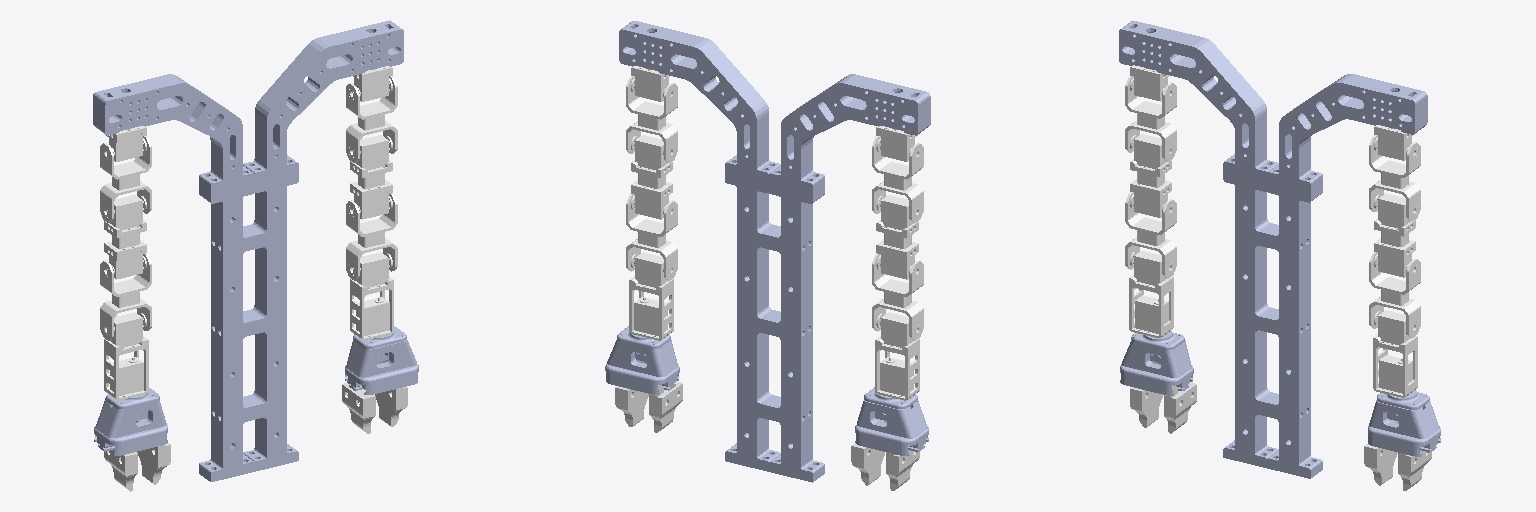
URDF robot description (dexter_arm):
<?xml version="1.0" encoding="utf-8"?>
<!-- This URDF was automatically created by SolidWorks to URDF Exporter! Originally created by Stephen Brawner (brawner@gmail.com) 
     Commit Version: 1.6.0-4-g7f85cfe  Build Version: 1.6.7995.38578
     For more information, please see http://wiki.ros.org/sw_urdf_exporter -->
<robot
  name="dexter_arm">
  <link
    name="base_link">
    <inertial>
      <origin
        xyz="1.94289029309402E-16 -1.17267306976032E-15 0.336691106271961"
        rpy="0 0 0" />
      <mass
        value="1.50541140238431" />
      <inertia
        ixx="0.015557818570861"
        ixy="6.84623852621616E-12"
        ixz="3.83456530151513E-19"
        iyy="0.0180203504414457"
        iyz="5.38593319905951E-17"
        izz="0.00261529849461049" />
    </inertial>
    <visual>
      <origin
        xyz="0 0 0"
        rpy="0 0 0" />
      <geometry>
        <mesh
          filename="package://dexter_arm_description/meshes/base_link.STL" />
      </geometry>
      <material
        name="">
        <color
          rgba="0.792156862745098 0.819607843137255 0.933333333333333 1" />
      </material>
    </visual>
    <collision>
      <origin
        xyz="0 0 0"
        rpy="0 0 0" />
      <geometry>
        <mesh
          filename="package://dexter_arm_description/meshes/base_link.STL" />
      </geometry>
    </collision>
  </link>
  <link
    name="l1l">
    <inertial>
      <origin
        xyz="-2.06768076455033E-05 -3.7470027081099E-16 0.020318702946937"
        rpy="0 0 0" />
      <mass
        value="0.0412610106656879" />
      <inertia
        ixx="6.45452263055138E-06"
        ixy="3.97873238125421E-21"
        ixz="-5.67173895647604E-10"
        iyy="1.08529418395194E-05"
        iyz="-2.17709921074147E-21"
        izz="8.35698735982534E-06" />
    </inertial>
    <visual>
      <origin
        xyz="0 0 0"
        rpy="0 0 0" />
      <geometry>
        <mesh
          filename="package://dexter_arm_description/meshes/l1l.STL" />
      </geometry>
      <material
        name="">
        <color
          rgba="1 1 1 1" />
      </material>
    </visual>
    <collision>
      <origin
        xyz="0 0 0"
        rpy="0 0 0" />
      <geometry>
        <mesh
          filename="package://dexter_arm_description/meshes/l1l.STL" />
      </geometry>
    </collision>
  </link>
  <joint
    name="j1l"
    type="revolute">
    <origin
      xyz="-0.185 0 0.5347"
      rpy="3.14159265358979 0 0" />
    <parent
      link="base_link" />
    <child
      link="l1l" />
    <axis
      xyz="0 0 1" />
    <limit
      lower="-1.57"
      upper="1.57"
      effort="3.43"
      velocity="5" />
  </joint>
  <link
    name="l2l">
    <inertial>
      <origin
        xyz="0.041999999999998 -2.59901822285968E-12 -4.31399360678597E-12"
        rpy="0 0 0" />
      <mass
        value="0.0412639771770678" />
      <inertia
        ixx="2.03861872352237E-05"
        ixy="1.63053089891251E-16"
        ixz="-1.24803181399013E-19"
        iyy="2.30212674355658E-05"
        iyz="4.89586440745353E-20"
        izz="8.54833447441497E-06" />
    </inertial>
    <visual>
      <origin
        xyz="0 0 0"
        rpy="0 0 0" />
      <geometry>
        <mesh
          filename="package://dexter_arm_description/meshes/l2l.STL" />
      </geometry>
      <material
        name="">
        <color
          rgba="1 1 1 1" />
      </material>
    </visual>
    <collision>
      <origin
        xyz="0 0 0"
        rpy="0 0 0" />
      <geometry>
        <mesh
          filename="package://dexter_arm_description/meshes/l2l.STL" />
      </geometry>
    </collision>
  </link>
  <joint
    name="j2l"
    type="revolute">
    <origin
      xyz="0 0 0.0340000000000011"
      rpy="0 -1.5707963267949 0" />
    <parent
      link="l1l" />
    <child
      link="l2l" />
    <axis
      xyz="0 0 1" />
    <limit
      lower="-1.57"
      upper="1.57"
      effort="3.43"
      velocity="5" />
  </joint>
  <link
    name="l3l">
    <inertial>
      <origin
        xyz="0.0425000000000001 5.22055315643755E-12 -4.31427116254213E-12"
        rpy="0 0 0" />
      <mass
        value="0.0895845826981461" />
      <inertia
        ixx="1.79494942674491E-05"
        ixy="-6.04671250972153E-16"
        ixz="-1.13434779133394E-09"
        iyy="2.28721177257845E-05"
        iyz="-1.7861308915074E-19"
        izz="1.35465501240485E-05" />
    </inertial>
    <visual>
      <origin
        xyz="0 0 0"
        rpy="0 0 0" />
      <geometry>
        <mesh
          filename="package://dexter_arm_description/meshes/l3l.STL" />
      </geometry>
      <material
        name="">
        <color
          rgba="1 1 1 1" />
      </material>
    </visual>
    <collision>
      <origin
        xyz="0 0 0"
        rpy="0 0 0" />
      <geometry>
        <mesh
          filename="package://dexter_arm_description/meshes/l3l.STL" />
      </geometry>
    </collision>
  </link>
  <joint
    name="j3l"
    type="revolute">
    <origin
      xyz="0.083999999999998 0 0"
      rpy="0 0 0" />
    <parent
      link="l2l" />
    <child
      link="l3l" />
    <axis
      xyz="0 0 1" />
    <limit
      lower="-1.57"
      upper="1.57"
      effort="3.43"
      velocity="5" />
  </joint>
  <link
    name="l4l">
    <inertial>
      <origin
        xyz="0.0420000000000001 -3.82788245545385E-12 -4.31488178520567E-12"
        rpy="0 0 0" />
      <mass
        value="0.0412639771770679" />
      <inertia
        ixx="2.03861872352237E-05"
        ixy="2.40158108021555E-16"
        ixz="-3.21447378747586E-20"
        iyy="2.30212674355658E-05"
        iyz="1.52556101057664E-19"
        izz="8.54833447441497E-06" />
    </inertial>
    <visual>
      <origin
        xyz="0 0 0"
        rpy="0 0 0" />
      <geometry>
        <mesh
          filename="package://dexter_arm_description/meshes/l4l.STL" />
      </geometry>
      <material
        name="">
        <color
          rgba="1 1 1 1" />
      </material>
    </visual>
    <collision>
      <origin
        xyz="0 0 0"
        rpy="0 0 0" />
      <geometry>
        <mesh
          filename="package://dexter_arm_description/meshes/l4l.STL" />
      </geometry>
    </collision>
  </link>
  <joint
    name="j4l"
    type="revolute">
    <origin
      xyz="0.0850000000000001 0 0"
      rpy="0 0 0" />
    <parent
      link="l3l" />
    <child
      link="l4l" />
    <axis
      xyz="0 0 1" />
    <limit
      lower="-1.57"
      upper="1.57"
      effort="1.5"
      velocity="5" />
  </joint>
  <link
    name="l5l">
    <inertial>
      <origin
        xyz="0.0451157165053799 6.85340035748785E-05 -0.000519380265183611"
        rpy="0 0 0" />
      <mass
        value="0.0877350527785504" />
      <inertia
        ixx="2.15592269641527E-05"
        ixy="-1.08634478618299E-12"
        ixz="-6.61837513500249E-07"
        iyy="4.2127173971068E-05"
        iyz="-2.81945757063296E-12"
        izz="2.98080635390039E-05" />
    </inertial>
    <visual>
      <origin
        xyz="0 0 0"
        rpy="0 0 0" />
      <geometry>
        <mesh
          filename="package://dexter_arm_description/meshes/l5l.STL" />
      </geometry>
      <material
        name="">
        <color
          rgba="1 1 1 1" />
      </material>
    </visual>
    <collision>
      <origin
        xyz="0 0 0"
        rpy="0 0 0" />
      <geometry>
        <mesh
          filename="package://dexter_arm_description/meshes/l5l.STL" />
      </geometry>
    </collision>
  </link>
  <joint
    name="j5l"
    type="revolute">
    <origin
      xyz="0.0840000000000015 0 0"
      rpy="0 0 0" />
    <parent
      link="l4l" />
    <child
      link="l5l" />
    <axis
      xyz="0 0 1" />
    <limit
      lower="-1.57"
      upper="1.57"
      effort="1.5"
      velocity="5" />
  </joint>
  <link
    name="l6l">
    <inertial>
      <origin
        xyz="-0.00476528037739832 -0.000653262779644108 0.0369292064765206"
        rpy="0 0 0" />
      <mass
        value="0.160590985030217" />
      <inertia
        ixx="5.06987158754222E-05"
        ixy="6.78041755969928E-10"
        ixz="1.12451618614082E-06"
        iyy="0.000111016162710577"
        iyz="-1.51064931043486E-10"
        izz="0.000135606227386264" />
    </inertial>
    <visual>
      <origin
        xyz="0 0 0"
        rpy="0 0 0" />
      <geometry>
        <mesh
          filename="package://dexter_arm_description/meshes/l6l.STL" />
      </geometry>
      <material
        name="">
        <color
          rgba="0.792156862745098 0.819607843137255 0.933333333333333 1" />
      </material>
    </visual>
    <collision>
      <origin
        xyz="0 0 0"
        rpy="0 0 0" />
      <geometry>
        <mesh
          filename="package://dexter_arm_description/meshes/l6l.STL" />
      </geometry>
    </collision>
  </link>
  <joint
    name="j6l"
    type="revolute">
    <origin
      xyz="0.100000000000004 0.00011000000184596 -0.0115000000043161"
      rpy="0 1.5707963267949 0" />
    <parent
      link="l5l" />
    <child
      link="l6l" />
    <axis
      xyz="0 0 -1" />
    <limit
      lower="-3.14"
      upper="3.14"
      effort="1.5"
      velocity="5" />
  </joint>
  <link
    name="l7l1">
    <inertial>
      <origin
        xyz="-0.0130590486725677 -0.0655739671662708 0.0299703503590698"
        rpy="0 0 0" />
      <mass
        value="0.0508689051828396" />
      <inertia
        ixx="2.93394596393009E-05"
        ixy="-4.66576010064367E-06"
        ixz="3.1482012642844E-06"
        iyy="1.89128491053784E-05"
        iyz="5.01575897640309E-06"
        izz="2.44707666408611E-05" />
    </inertial>
    <visual>
      <origin
        xyz="0 0 0"
        rpy="0 0 0" />
      <geometry>
        <mesh
          filename="package://dexter_arm_description/meshes/l7l1.STL" />
      </geometry>
      <material
        name="">
        <color
          rgba="0.96078431372549 0.96078431372549 0.964705882352941 1" />
      </material>
    </visual>
    <collision>
      <origin
        xyz="0 0 0"
        rpy="0 0 0" />
      <geometry>
        <mesh
          filename="package://dexter_arm_description/meshes/l7l1.STL" />
      </geometry>
    </collision>
  </link>
  <joint
    name="j7l1"
    type="prismatic">
    <origin
      xyz="-0.00031015564213932 -0.0334996810602779 0.024487500081954"
      rpy="-1.5707963267949 0 0" />
    <parent
      link="l6l" />
    <child
      link="l7l1" />
    <axis
      xyz="1 0 0" />
    <limit
      lower="0.00"
      upper="-0.025"
      effort="0"
      velocity="0" />
  </joint>
  <link
    name="l7l2">
    <inertial>
      <origin
        xyz="-0.0130590486725638 -0.0655739671662711 0.0299703503605255"
        rpy="0 0 0" />
      <mass
        value="0.0508689051828397" />
      <inertia
        ixx="2.93394596393009E-05"
        ixy="-4.66576010064375E-06"
        ixz="3.14820126428442E-06"
        iyy="1.89128491053785E-05"
        iyz="5.01575897640308E-06"
        izz="2.44707666408611E-05" />
    </inertial>
    <visual>
      <origin
        xyz="0 0 0"
        rpy="0 0 0" />
      <geometry>
        <mesh
          filename="package://dexter_arm_description/meshes/l7l2.STL" />
      </geometry>
      <material
        name="">
        <color
          rgba="0.96078431372549 0.96078431372549 0.964705882352941 1" />
      </material>
    </visual>
    <collision>
      <origin
        xyz="0 0 0"
        rpy="0 0 0" />
      <geometry>
        <mesh
          filename="package://dexter_arm_description/meshes/l7l2.STL" />
      </geometry>
    </collision>
  </link>
  <joint
    name="j7l2"
    type="prismatic">
    <origin
      xyz="0.0138251055330376 0.0320003186418183 0.0244125000819536"
      rpy="-1.5707963267949 0 3.14159265358979" />
    <parent
      link="l6l" />
    <child
      link="l7l2" />
    <axis
      xyz="-1 0 0" />
    <limit
      lower="-0.025"
      upper="0.0"
      effort="0"
      velocity="0" />
  </joint>
  <link
    name="l1r">
    <inertial>
      <origin
        xyz="-2.06768076423253E-05 1.73472347597681E-16 0.0203187029469341"
        rpy="0 0 0" />
      <mass
        value="0.0412610106656878" />
      <inertia
        ixx="6.45452263055136E-06"
        ixy="-1.27336023491028E-21"
        ixz="-5.67173895653783E-10"
        iyy="1.08529418395194E-05"
        iyz="-1.17131567321725E-20"
        izz="8.35698735982531E-06" />
    </inertial>
    <visual>
      <origin
        xyz="0 0 0"
        rpy="0 0 0" />
      <geometry>
        <mesh
          filename="package://dexter_arm_description/meshes/l1r.STL" />
      </geometry>
      <material
        name="">
        <color
          rgba="1 1 1 1" />
      </material>
    </visual>
    <collision>
      <origin
        xyz="0 0 0"
        rpy="0 0 0" />
      <geometry>
        <mesh
          filename="package://dexter_arm_description/meshes/l1r.STL" />
      </geometry>
    </collision>
  </link>
  <joint
    name="j1r"
    type="revolute">
    <origin
      xyz="0.185 0 0.534699999999999"
      rpy="-3.14159265358979 0 0" />
    <parent
      link="base_link" />
    <child
      link="l1r" />
    <axis
      xyz="0 0 1" />
    <limit
      lower="-1.57"
      upper="1.57"
      effort="3.43"
      velocity="5" />
  </joint>
  <link
    name="l2r">
    <inertial>
      <origin
        xyz="0.0420000000000003 6.89094614703123E-13 4.31335522854681E-12"
        rpy="0 0 0" />
      <mass
        value="0.0412639771770678" />
      <inertia
        ixx="2.03861872352237E-05"
        ixy="-4.32483061785773E-17"
        ixz="2.35202404428686E-20"
        iyy="2.30212674355658E-05"
        iyz="4.48398426029756E-20"
        izz="8.54833447441498E-06" />
    </inertial>
    <visual>
      <origin
        xyz="0 0 0"
        rpy="0 0 0" />
      <geometry>
        <mesh
          filename="package://dexter_arm_description/meshes/l2r.STL" />
      </geometry>
      <material
        name="">
        <color
          rgba="1 1 1 1" />
      </material>
    </visual>
    <collision>
      <origin
        xyz="0 0 0"
        rpy="0 0 0" />
      <geometry>
        <mesh
          filename="package://dexter_arm_description/meshes/l2r.STL" />
      </geometry>
    </collision>
  </link>
  <joint
    name="j2r"
    type="revolute">
    <origin
      xyz="0 0 0.0339999999999996"
      rpy="3.14159265358979 -1.5707963267949 0" />
    <parent
      link="l1r" />
    <child
      link="l2r" />
    <axis
      xyz="0 0 -1" />
    <limit
      lower="-1.57"
      upper="1.57"
      effort="3.43"
      velocity="5" />
  </joint>
  <link
    name="l3r">
    <inertial>
      <origin
        xyz="0.042499999999999 -9.64506252643105E-15 4.31646385301576E-12"
        rpy="0 0 0" />
      <mass
        value="0.0895845826981461" />
      <inertia
        ixx="1.79494942674491E-05"
        ixy="-2.38009674149187E-20"
        ixz="1.13434779130171E-09"
        iyy="2.28721177257846E-05"
        iyz="-1.00376713822626E-20"
        izz="1.35465501240486E-05" />
    </inertial>
    <visual>
      <origin
        xyz="0 0 0"
        rpy="0 0 0" />
      <geometry>
        <mesh
          filename="package://dexter_arm_description/meshes/l3r.STL" />
      </geometry>
      <material
        name="">
        <color
          rgba="1 1 1 1" />
      </material>
    </visual>
    <collision>
      <origin
        xyz="0 0 0"
        rpy="0 0 0" />
      <geometry>
        <mesh
          filename="package://dexter_arm_description/meshes/l3r.STL" />
      </geometry>
    </collision>
  </link>
  <joint
    name="j3r"
    type="revolute">
    <origin
      xyz="0.0840000000000007 0 0"
      rpy="0 0 0" />
    <parent
      link="l2r" />
    <child
      link="l3r" />
    <axis
      xyz="0 0 -1" />
    <limit
      lower="-1.57"
      upper="1.57"
      effort="3.43"
      velocity="5" />
  </joint>
  <link
    name="l4r">
    <inertial>
      <origin
        xyz="0.0419999999999995 -5.86537762803374E-13 4.31464586281294E-12"
        rpy="0 0 0" />
      <mass
        value="0.0412639771770678" />
      <inertia
        ixx="2.03861872352237E-05"
        ixy="4.66903518134811E-17"
        ixz="2.626158100344E-20"
        iyy="2.30212674355658E-05"
        iyz="1.47683200562412E-19"
        izz="8.54833447441498E-06" />
    </inertial>
    <visual>
      <origin
        xyz="0 0 0"
        rpy="0 0 0" />
      <geometry>
        <mesh
          filename="package://dexter_arm_description/meshes/l4r.STL" />
      </geometry>
      <material
        name="">
        <color
          rgba="1 1 1 1" />
      </material>
    </visual>
    <collision>
      <origin
        xyz="0 0 0"
        rpy="0 0 0" />
      <geometry>
        <mesh
          filename="package://dexter_arm_description/meshes/l4r.STL" />
      </geometry>
    </collision>
  </link>
  <joint
    name="j4r"
    type="revolute">
    <origin
      xyz="0.0850000000000011 0 0"
      rpy="0 0 0" />
    <parent
      link="l3r" />
    <child
      link="l4r" />
    <axis
      xyz="0 0 -1" />
    <limit
      lower="-1.57"
      upper="1.57"
      effort="1.5"
      velocity="5" />
  </joint>
  <link
    name="l5r">
    <inertial>
      <origin
        xyz="0.0451157165053795 -6.85340036724255E-05 0.000519380265182653"
        rpy="0 0 0" />
      <mass
        value="0.0877350527785506" />
      <inertia
        ixx="2.15592269641528E-05"
        ixy="1.08634469346835E-12"
        ixz="6.61837513500237E-07"
        iyy="4.21271739710681E-05"
        iyz="-2.81945757187487E-12"
        izz="2.9808063539004E-05" />
    </inertial>
    <visual>
      <origin
        xyz="0 0 0"
        rpy="0 0 0" />
      <geometry>
        <mesh
          filename="package://dexter_arm_description/meshes/l5r.STL" />
      </geometry>
      <material
        name="">
        <color
          rgba="1 1 1 1" />
      </material>
    </visual>
    <collision>
      <origin
        xyz="0 0 0"
        rpy="0 0 0" />
      <geometry>
        <mesh
          filename="package://dexter_arm_description/meshes/l5r.STL" />
      </geometry>
    </collision>
  </link>
  <joint
    name="j5r"
    type="revolute">
    <origin
      xyz="0.083999999999999 0 0"
      rpy="0 0 0" />
    <parent
      link="l4r" />
    <child
      link="l5r" />
    <axis
      xyz="0 0 -1" />
    <limit
      lower="-1.57"
      upper="1.57"
      effort="1.5"
      velocity="5" />
  </joint>
  <link
    name="l6r">
    <inertial>
      <origin
        xyz="-0.00476528037740019 -0.000653262777460334 0.0369292064765232"
        rpy="0 0 0" />
      <mass
        value="0.160590985030217" />
      <inertia
        ixx="5.06987158754221E-05"
        ixy="6.78041755694271E-10"
        ixz="1.12451618614082E-06"
        iyy="0.000111016162710577"
        iyz="-1.5106493104616E-10"
        izz="0.000135606227386264" />
    </inertial>
    <visual>
      <origin
        xyz="0 0 0"
        rpy="0 0 0" />
      <geometry>
        <mesh
          filename="package://dexter_arm_description/meshes/l6r.STL" />
      </geometry>
      <material
        name="">
        <color
          rgba="0.792156862745098 0.819607843137255 0.933333333333333 1" />
      </material>
    </visual>
    <collision>
      <origin
        xyz="0 0 0"
        rpy="0 0 0" />
      <geometry>
        <mesh
          filename="package://dexter_arm_description/meshes/l6r.STL" />
      </geometry>
    </collision>
  </link>
  <joint
    name="j6r"
    type="revolute">
    <origin
      xyz="0.0999999999999998 -0.000110000000436546 0.0115000000043133"
      rpy="0 1.5707963267949 0" />
    <parent
      link="l5r" />
    <child
      link="l6r" />
    <axis
      xyz="0 0 -1" />
    <limit
      lower="-3.14"
      upper="3.14"
      effort="1.5"
      velocity="5" />
  </joint>
  <link
    name="l7r1">
    <inertial>
      <origin
        xyz="-0.0130590486814246 -0.0655739671734152 0.0299703503645945"
        rpy="0 0 0" />
      <mass
        value="0.0508689051689457" />
      <inertia
        ixx="2.93394596236661E-05"
        ixy="-4.66576008817436E-06"
        ixz="3.14820125528345E-06"
        iyy="1.89128490852876E-05"
        iyz="5.01575896892049E-06"
        izz="2.44707666160797E-05" />
    </inertial>
    <visual>
      <origin
        xyz="0 0 0"
        rpy="0 0 0" />
      <geometry>
        <mesh
          filename="package://dexter_arm_description/meshes/l7r1.STL" />
      </geometry>
      <material
        name="">
        <color
          rgba="0.96078431372549 0.96078431372549 0.964705882352941 1" />
      </material>
    </visual>
    <collision>
      <origin
        xyz="0 0 0"
        rpy="0 0 0" />
      <geometry>
        <mesh
          filename="package://dexter_arm_description/meshes/l7r1.STL" />
      </geometry>
    </collision>
  </link>
  <joint
    name="j7r1"
    type="prismatic">
    <origin
      xyz="0.0138251055330352 0.0320003186428659 0.0244125000819573"
      rpy="-1.5707963267949 0 3.14159265358979" />
    <parent
      link="l6r" />
    <child
      link="l7r1" />
    <axis
      xyz="-1 0 0" />
    <limit
      lower="-0.025"
      upper="0.0"
      effort="0"
      velocity="0" />
  </joint>
  <link
    name="l7r2">
    <inertial>
      <origin
        xyz="-0.0130590486725645 -0.0655739671662706 0.0299703503599605"
        rpy="0 0 0" />
      <mass
        value="0.0508689051828396" />
      <inertia
        ixx="2.93394596393009E-05"
        ixy="-4.6657601006438E-06"
        ixz="3.14820126428445E-06"
        iyy="1.89128491053786E-05"
        iyz="5.01575897640307E-06"
        izz="2.44707666408611E-05" />
    </inertial>
    <visual>
      <origin
        xyz="0 0 0"
        rpy="0 0 0" />
      <geometry>
        <mesh
          filename="package://dexter_arm_description/meshes/l7r2.STL" />
      </geometry>
      <material
        name="">
        <color
          rgba="0.96078431372549 0.96078431372549 0.964705882352941 1" />
      </material>
    </visual>
    <collision>
      <origin
        xyz="0 0 0"
        rpy="0 0 0" />
      <geometry>
        <mesh
          filename="package://dexter_arm_description/meshes/l7r2.STL" />
      </geometry>
    </collision>
  </link>
  <joint
    name="j7r2"
    type="prismatic">
    <origin
      xyz="-0.000310155642144982 -0.0334996810589849 0.0244125000819576"
      rpy="-1.5707963267949 0 0" />
    <parent
      link="l6r" />
    <child
      link="l7r2" />
    <axis
      xyz="1 0 0" />
    <limit
      lower="0.00"
      upper="-0.025"
      effort="0"
      velocity="0" />
  </joint>
</robot>

--- Render facts (derived) ---
Views: 3 orthographic renders of the robot side by side, from view 1: azimuth 30°, elevation 25°; view 2: azimuth 150°, elevation 25°; view 3: azimuth 330°, elevation 25°.
Robot: dexter_arm — 17 links, 16 joints (12 revolute, 4 prismatic); root link base_link; default pose: every joint at zero.
Links seen in each view (by area): view 1: base_link, l6l, l6r, l5l, l5r, l3l, l3r, l2l, l4l, l2r, l4r, l7r1 (+5 smaller); view 2: base_link, l6l, l6r, l5r, l5l, l3r, l3l, l2l, l4l, l2r, l4r, l7r1 (+5 smaller); view 3: base_link, l6r, l6l, l5r, l5l, l3l, l3r, l2r, l4l, l4r, l2l, l7l2 (+5 smaller).
Link boxes in pixels (x1=…): base_link: x1=93, y1=20, x2=403, y2=481; l6l: x1=94, y1=388, x2=167, y2=455; l6r: x1=345, y1=326, x2=418, y2=394; l5l: x1=104, y1=312, x2=148, y2=400; l5r: x1=350, y1=252, x2=393, y2=340; l3l: x1=104, y1=195, x2=146, y2=279; l3r: x1=350, y1=135, x2=392, y2=219; l2l: x1=100, y1=136, x2=151, y2=222; l4l: x1=100, y1=253, x2=151, y2=340; l2r: x1=346, y1=76, x2=397, y2=162; l4r: x1=346, y1=194, x2=397, y2=280; l7r1: x1=342, y1=381, x2=375, y2=433; base_link: x1=619, y1=21, x2=930, y2=482; l6l: x1=855, y1=387, x2=928, y2=455; l6r: x1=605, y1=326, x2=679, y2=394; l5r: x1=629, y1=252, x2=673, y2=340; l5l: x1=875, y1=312, x2=919, y2=400; l3r: x1=631, y1=135, x2=672, y2=219; l3l: x1=876, y1=195, x2=918, y2=279; l2l: x1=872, y1=136, x2=923, y2=222; l4l: x1=872, y1=254, x2=923, y2=340; l2r: x1=626, y1=76, x2=677, y2=162; l4r: x1=626, y1=194, x2=677, y2=280; l7r1: x1=649, y1=381, x2=682, y2=432; base_link: x1=1119, y1=21, x2=1427, y2=478; l6r: x1=1368, y1=390, x2=1440, y2=456; l6l: x1=1120, y1=331, x2=1193, y2=395; l5r: x1=1373, y1=310, x2=1417, y2=397; l5l: x1=1129, y1=251, x2=1173, y2=337; l3l: x1=1130, y1=134, x2=1171, y2=217; l3r: x1=1374, y1=193, x2=1415, y2=277; l2r: x1=1369, y1=135, x2=1420, y2=221; l4l: x1=1125, y1=192, x2=1176, y2=278; l4r: x1=1369, y1=252, x2=1420, y2=337; l2l: x1=1125, y1=76, x2=1176, y2=161; l7l2: x1=1164, y1=382, x2=1196, y2=433.
Size in the robot's own frame: 0.4697 by 0.0615 by 0.585 metres.
17 mesh visuals loaded from 17 distinct referenced files (17 binary STL).
